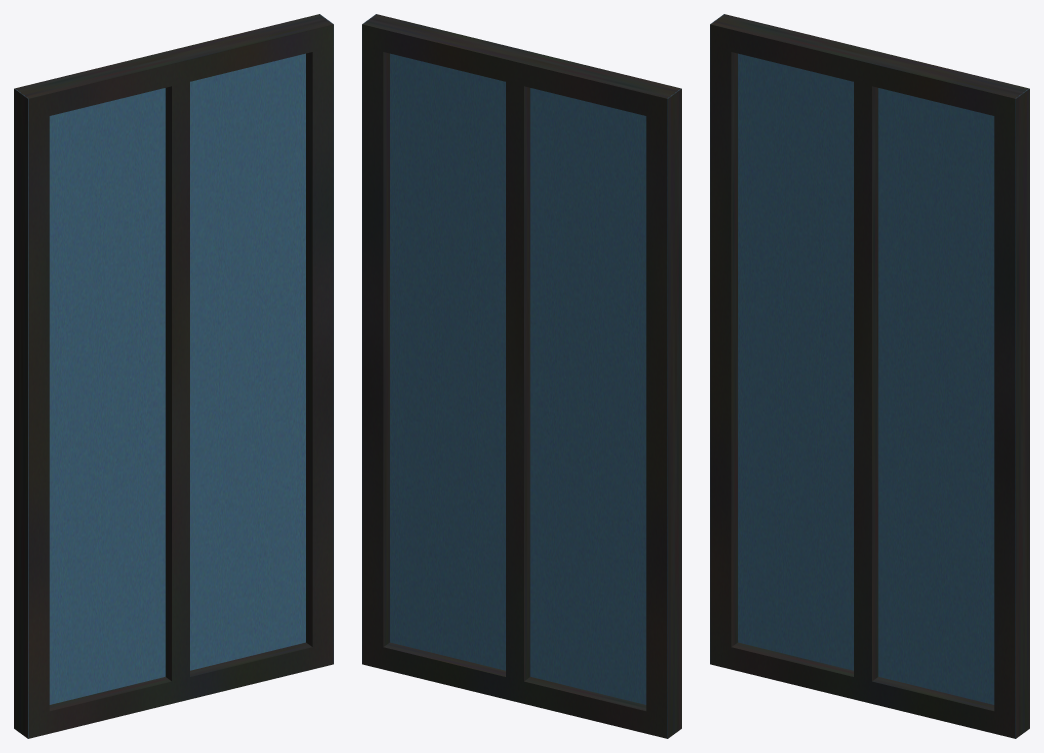
Rendered from window.obj.
The picture shows the model from 3 angles, left to right: view 1: azimuth 30°, elevation 25°; view 2: azimuth 150°, elevation 25°; view 3: azimuth 330°, elevation 25°; orthographic projection.
Bounding box in the file's own units: 1.5 × 3 × 0.12.
